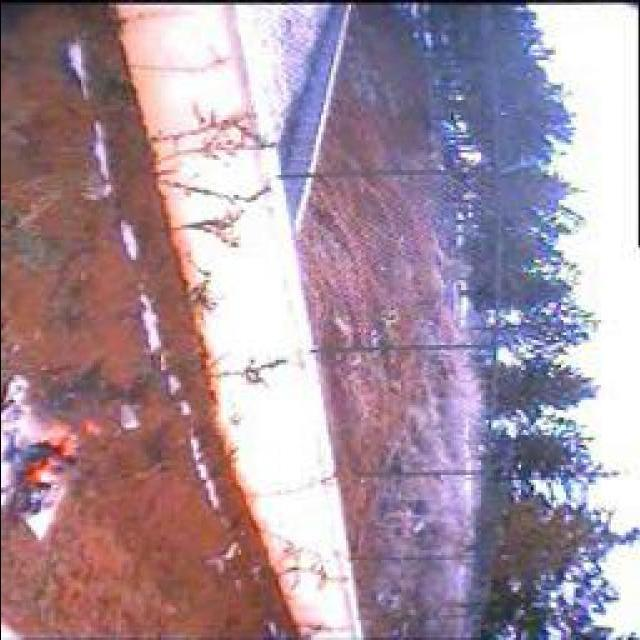Fire: (6, 416, 104, 503)
